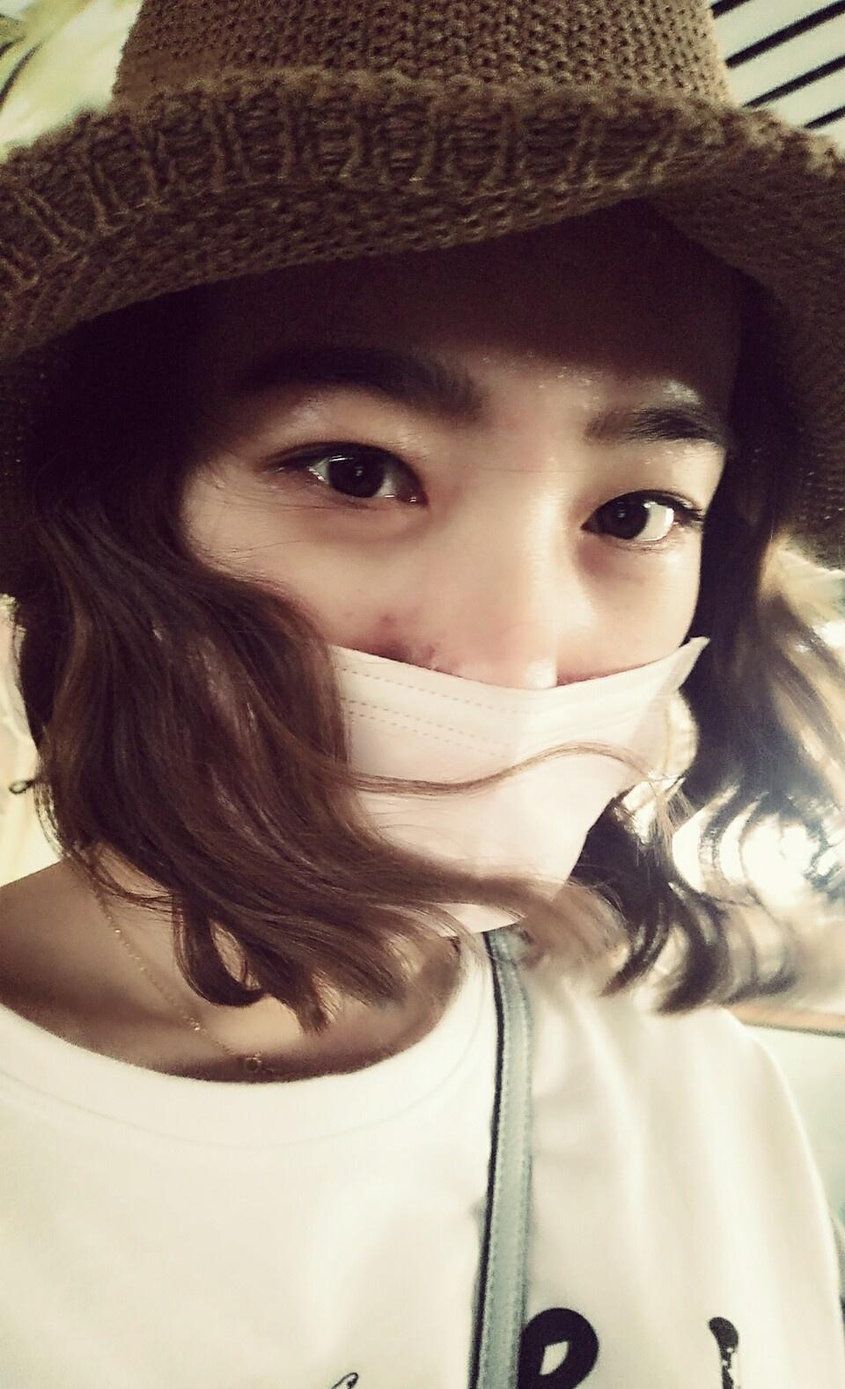WRONG: (97, 320, 724, 947)
